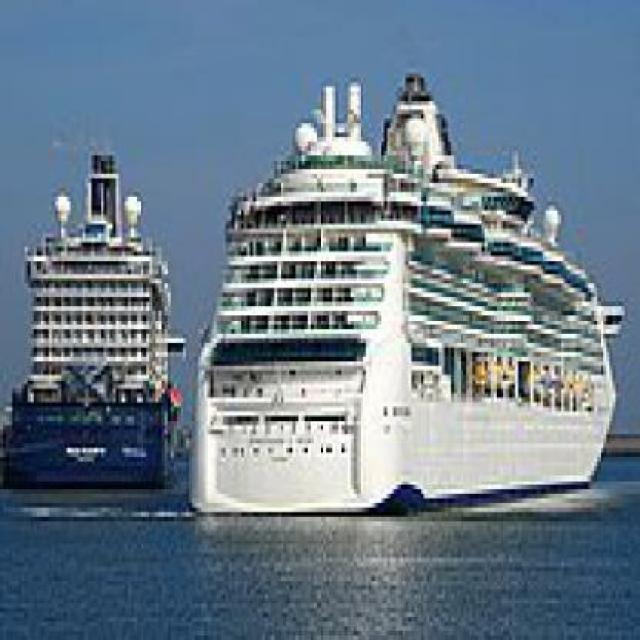cruise: (184, 60, 629, 513)
